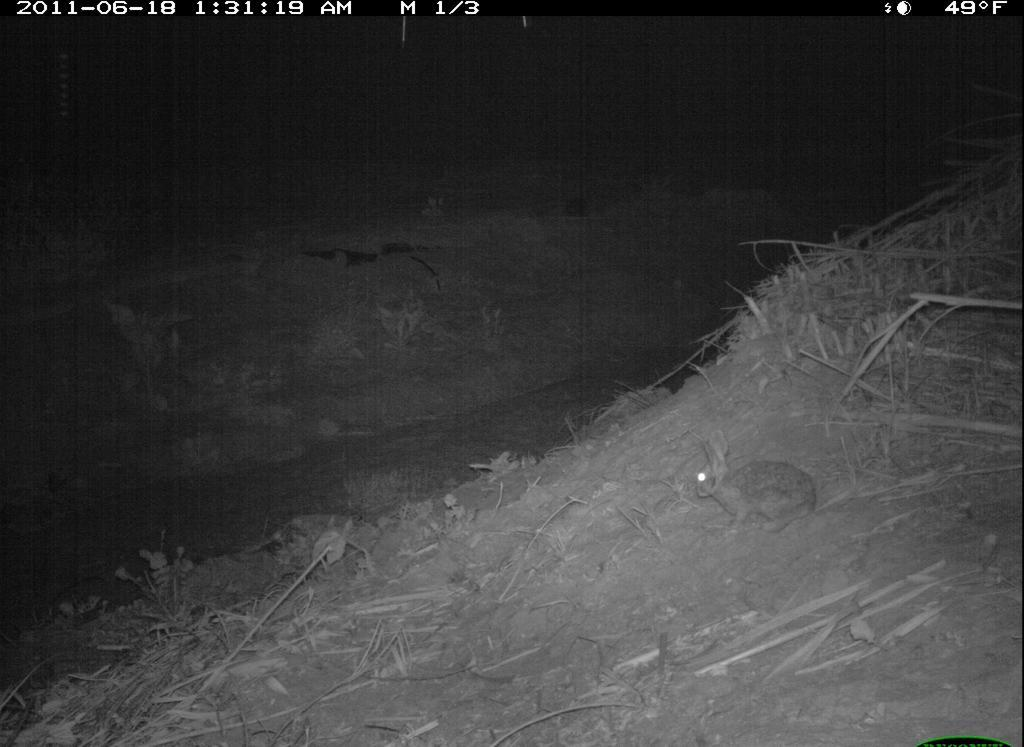rabbit: (690, 428, 822, 536)
